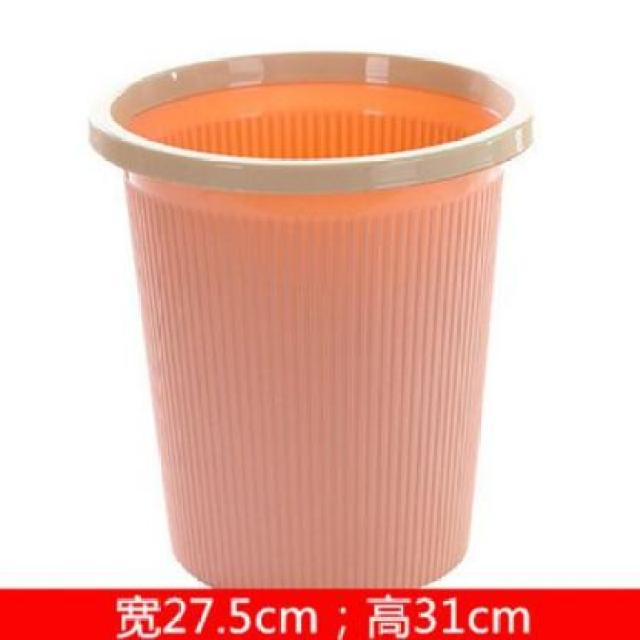dustbin: (82, 40, 540, 587)
